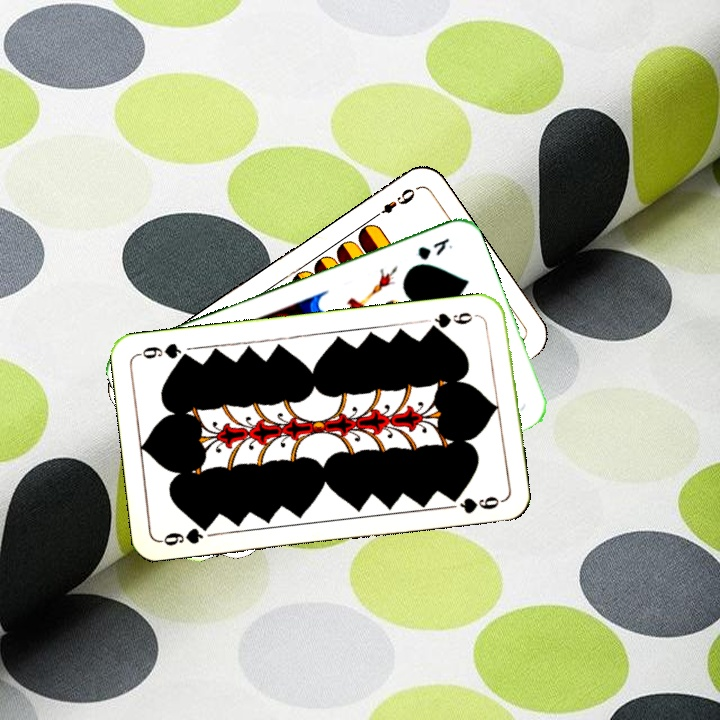E9: (368, 184, 418, 222)
G9: (157, 518, 214, 549), (424, 308, 482, 333)
GK: (413, 233, 455, 263)
